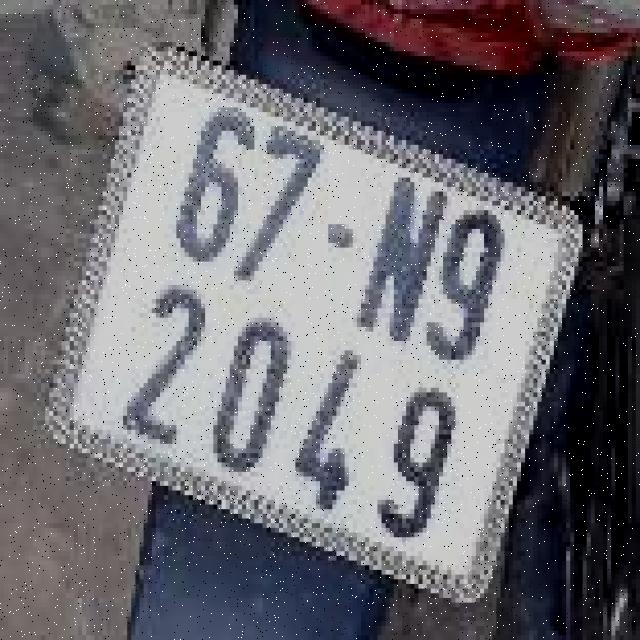0: (223, 313, 314, 491)
2: (127, 271, 226, 453)
4: (297, 346, 383, 518)
6: (174, 95, 269, 282)
7: (240, 112, 322, 299)
9: (420, 198, 515, 380), (378, 367, 463, 549)
N: (353, 161, 455, 353)
